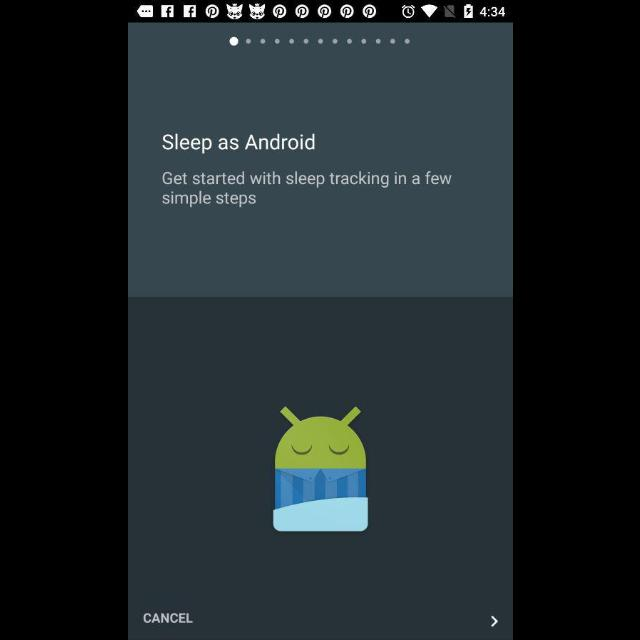icon: (490, 615, 498, 627)
image: (273, 405, 367, 531)
pageindicator: (228, 37, 410, 47)
text: (161, 172, 451, 208), (162, 134, 314, 154), (143, 612, 193, 624)
uppertaskbar: (128, 1, 512, 23)
